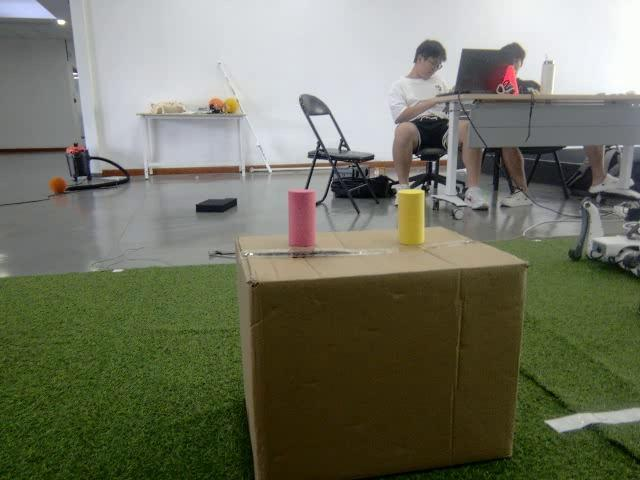red_cylinder: (288, 189, 316, 247)
yellow_cylinder: (396, 189, 426, 244)
